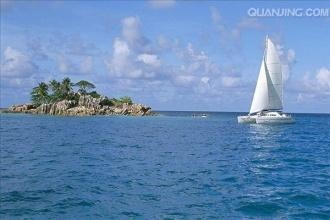fanchuan: (236, 33, 295, 125)
